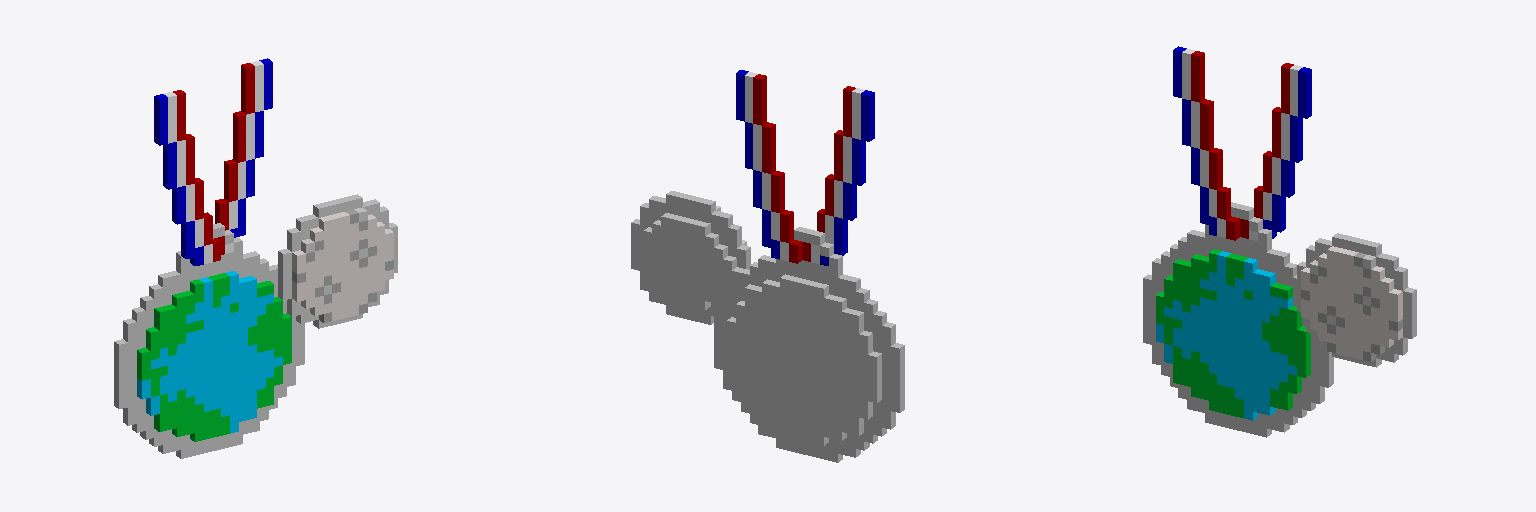
3 views of the same model, side by side, from view 1: azimuth 30°, elevation 25°; view 2: azimuth 150°, elevation 25°; view 3: azimuth 330°, elevation 25° (orthographic).
Visible parts, largest first — view 1: object 1; view 2: object 1; view 3: object 1.
Boxes of the visible parts, x1=… form: object 1: x1=114, y1=58, x2=397, y2=458; object 1: x1=631, y1=70, x2=904, y2=462; object 1: x1=1143, y1=46, x2=1416, y2=437.
Bounding box in the file's own units: 3.1 × 4 × 0.4.
Materials: 1 (1 with a texture image).